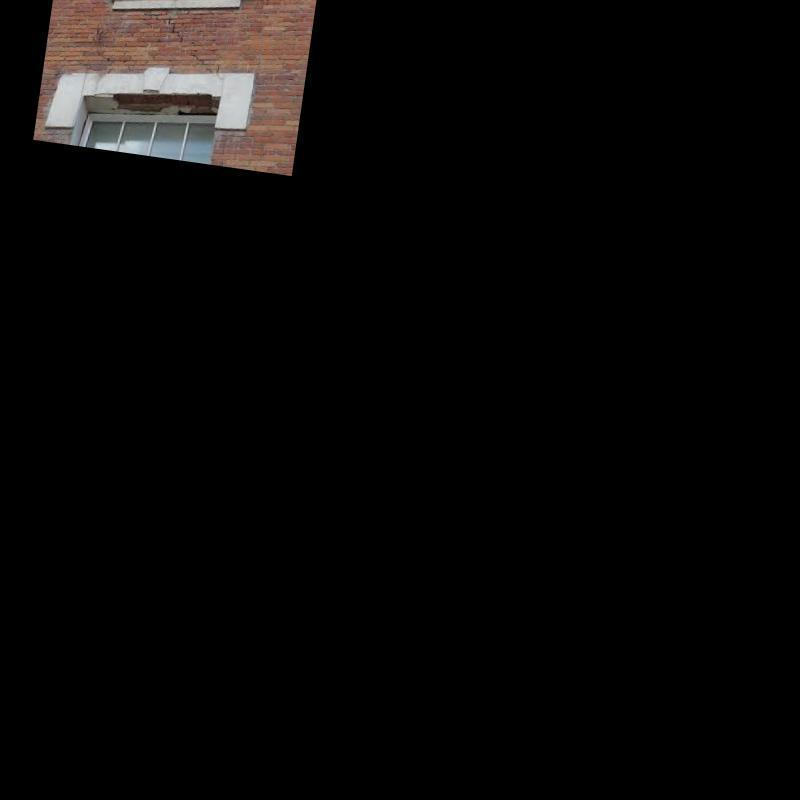pothole: (143, 10, 184, 43), (190, 49, 213, 74)
